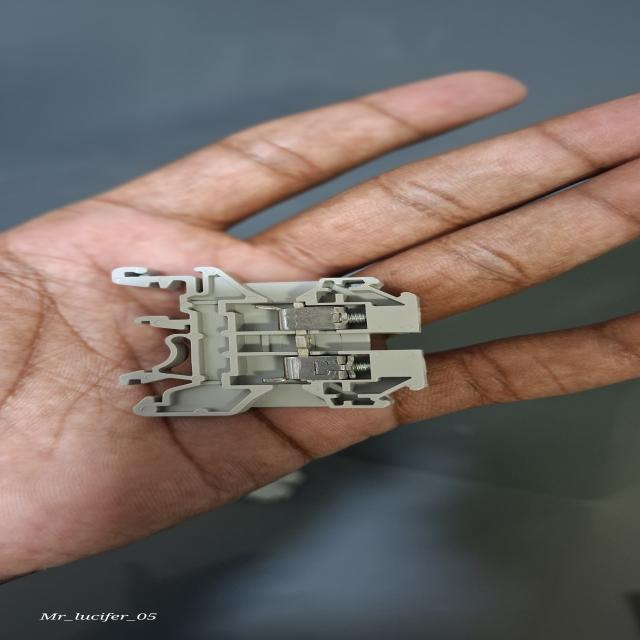Pass: (108, 265, 424, 414)
